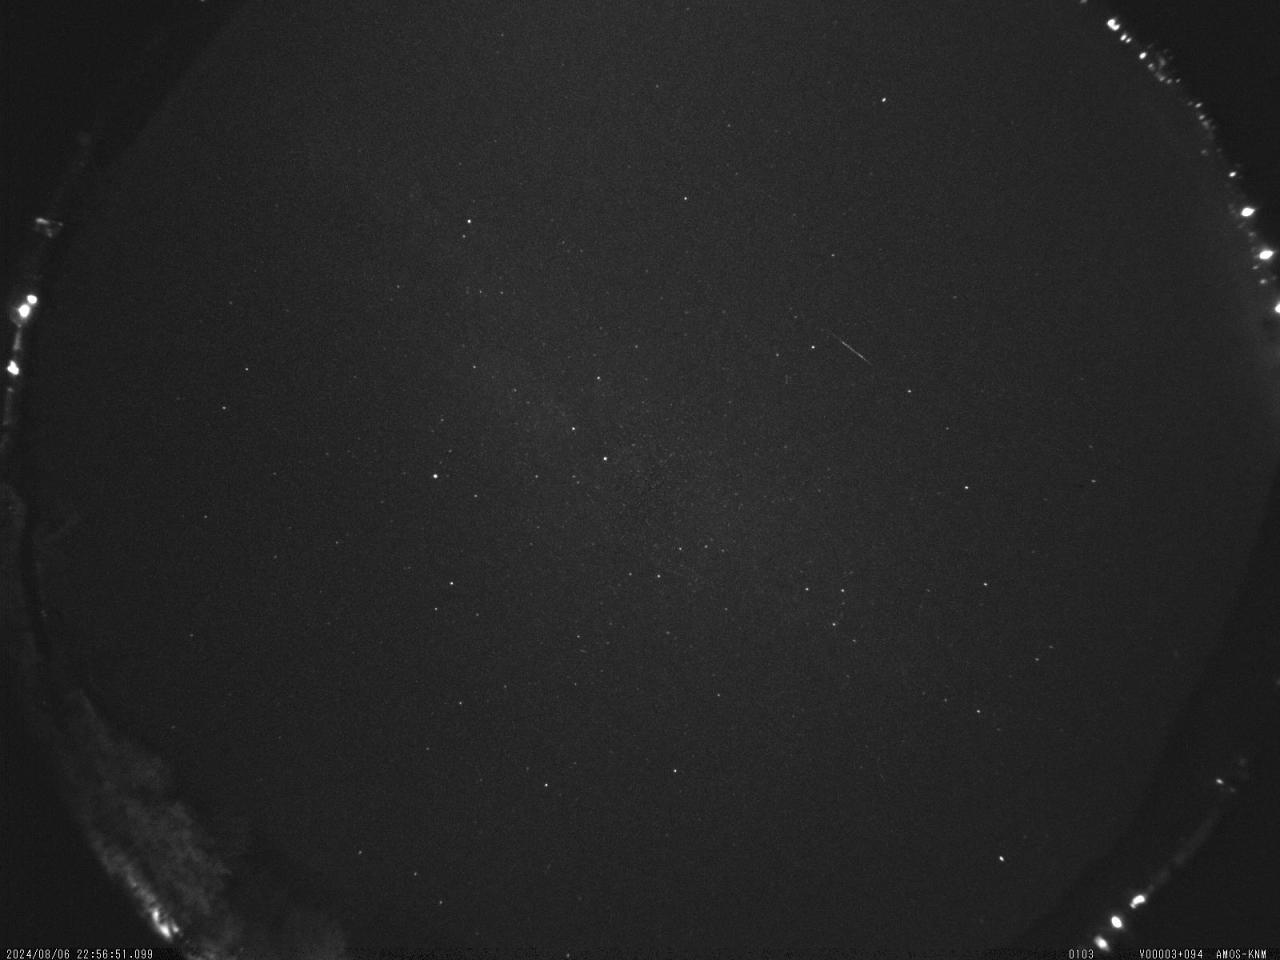Meteor: (828, 330, 881, 372)
